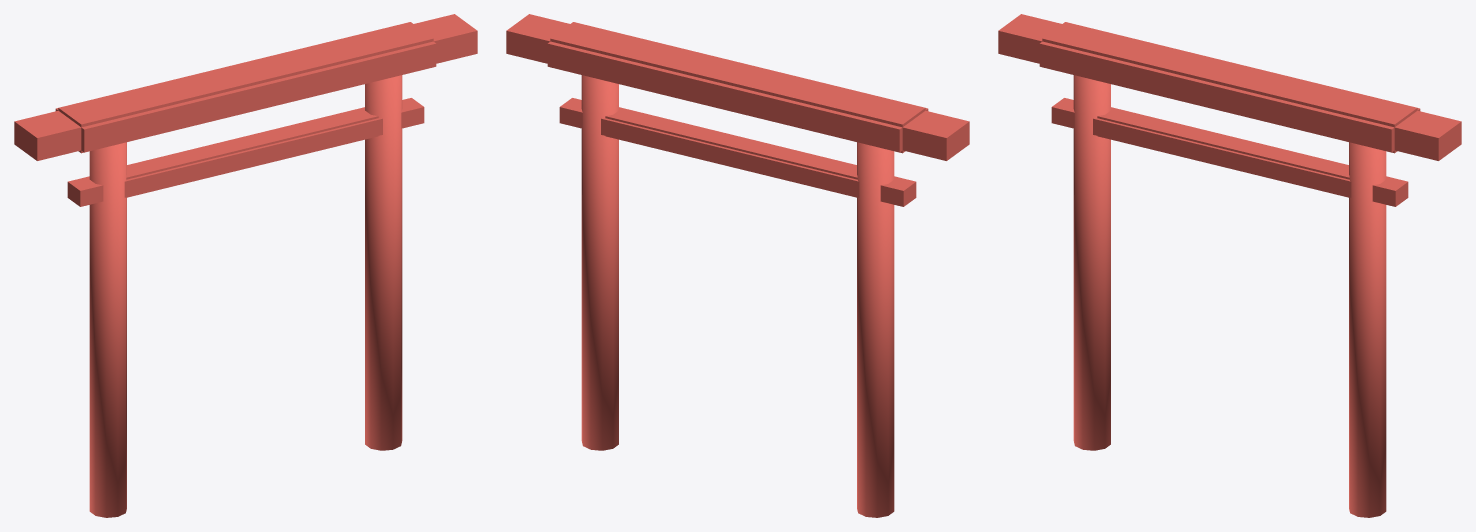
Rendered from env_blossom_torii.glb.
3 renders of one model, left to right at view 1: azimuth 30°, elevation 25°; view 2: azimuth 150°, elevation 25°; view 3: azimuth 330°, elevation 25°, orthographic.
Parts seen in each view (by area): view 1: cone; view 2: cone; view 3: cone.
Part boxes in pixels (box(x1,y1,x2,y2)): cone: box(14, 14, 477, 517); cone: box(506, 14, 969, 517); cone: box(998, 14, 1461, 517).
Size of the model in its own units: 3.2 by 2.8 by 0.36.
